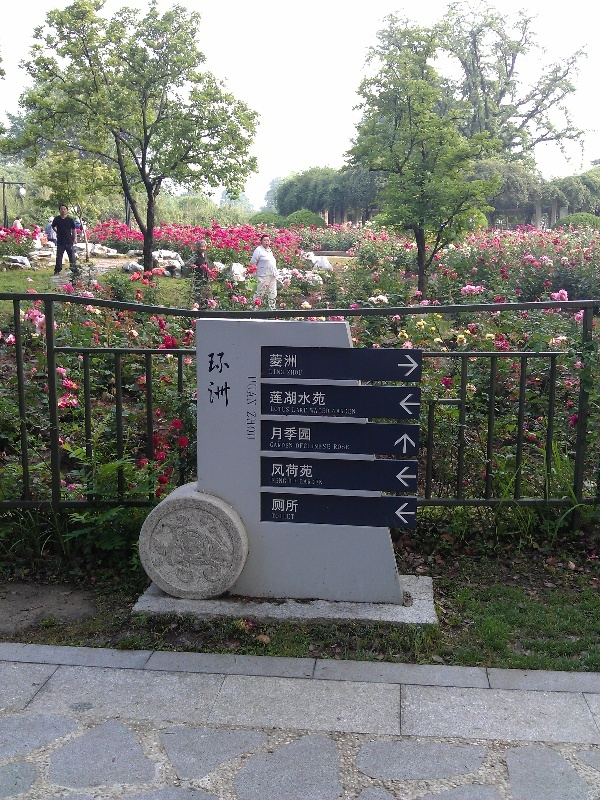text: (209, 352, 224, 408), (225, 352, 231, 408), (246, 411, 256, 441), (273, 353, 288, 369), (273, 390, 288, 406), (289, 390, 304, 406), (305, 390, 320, 406), (273, 426, 288, 442), (289, 426, 304, 442), (273, 463, 288, 479), (289, 463, 304, 479), (248, 376, 256, 406), (273, 499, 288, 513), (289, 499, 300, 513), (289, 353, 298, 369), (305, 463, 314, 479), (305, 426, 313, 442), (273, 442, 288, 449), (273, 513, 288, 520), (305, 479, 320, 486), (273, 477, 287, 484), (273, 407, 288, 413), (337, 409, 352, 415), (305, 444, 320, 450), (289, 370, 303, 376), (292, 407, 304, 414), (321, 390, 326, 406), (337, 444, 350, 450), (289, 479, 304, 484), (273, 369, 285, 375), (310, 408, 320, 414), (321, 444, 331, 450), (207, 352, 208, 408), (321, 408, 330, 414), (269, 390, 272, 406), (296, 443, 304, 449), (289, 513, 295, 520), (270, 353, 272, 369), (289, 442, 293, 449), (300, 479, 304, 486), (305, 407, 308, 414), (321, 479, 324, 486), (269, 369, 272, 375), (333, 409, 336, 415), (353, 409, 356, 415), (270, 442, 272, 449), (334, 444, 336, 450), (271, 477, 272, 484), (271, 407, 272, 413), (289, 407, 290, 413)
